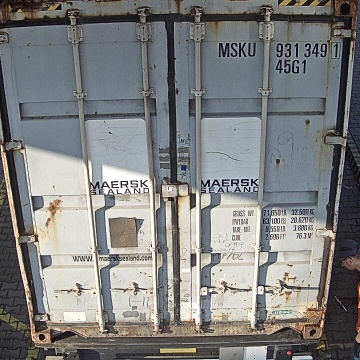serial_id: (219, 42, 341, 57)
